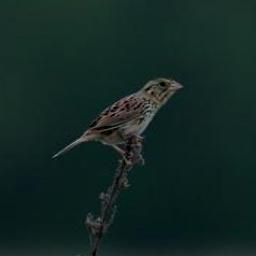Sparrow: (50, 75, 181, 166)
